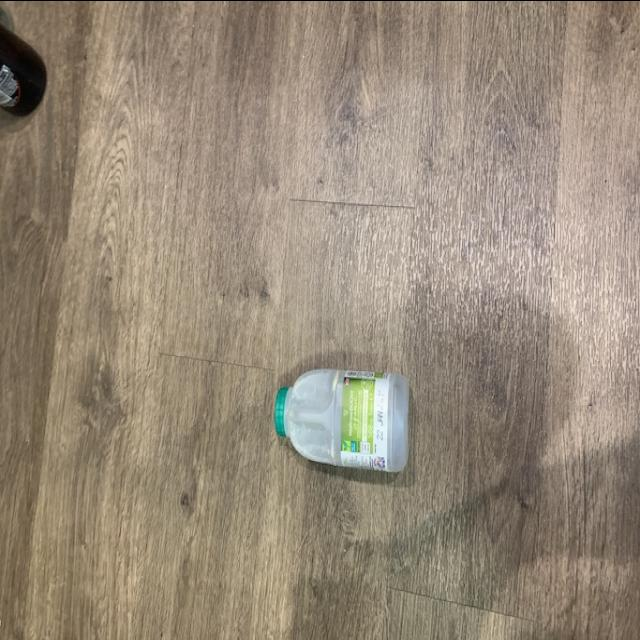HDPEM: (271, 362, 413, 482)
